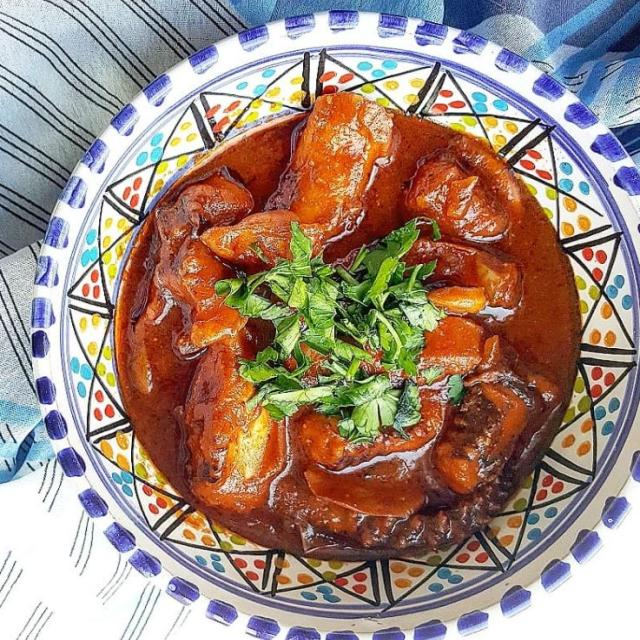kamouniya: (132, 77, 596, 545)
